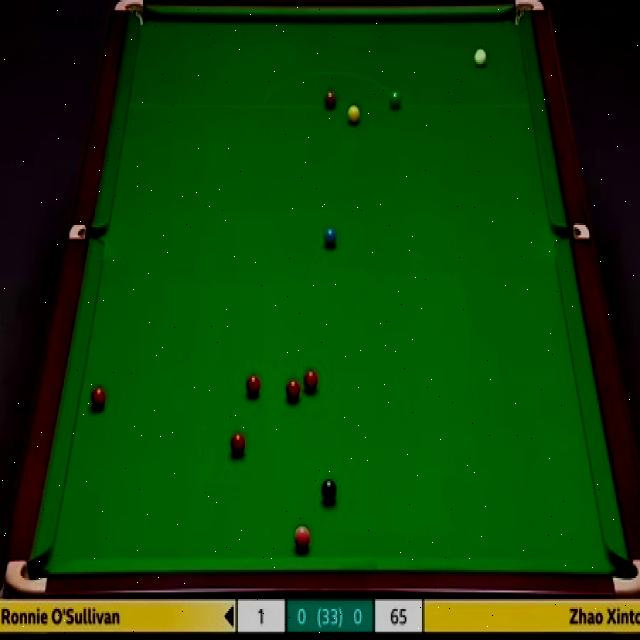black-ball: (321, 479, 336, 502)
blue-ball: (323, 228, 338, 250)
brown-ball: (324, 86, 336, 108)
green-ball: (388, 90, 401, 108)
pink-ball: (292, 522, 312, 552)
red-ball: (88, 386, 107, 414), (284, 376, 301, 404), (244, 373, 262, 399), (230, 430, 246, 457), (303, 369, 317, 392)
white-ball: (474, 47, 487, 67)
yellow-ball: (348, 104, 362, 125)
